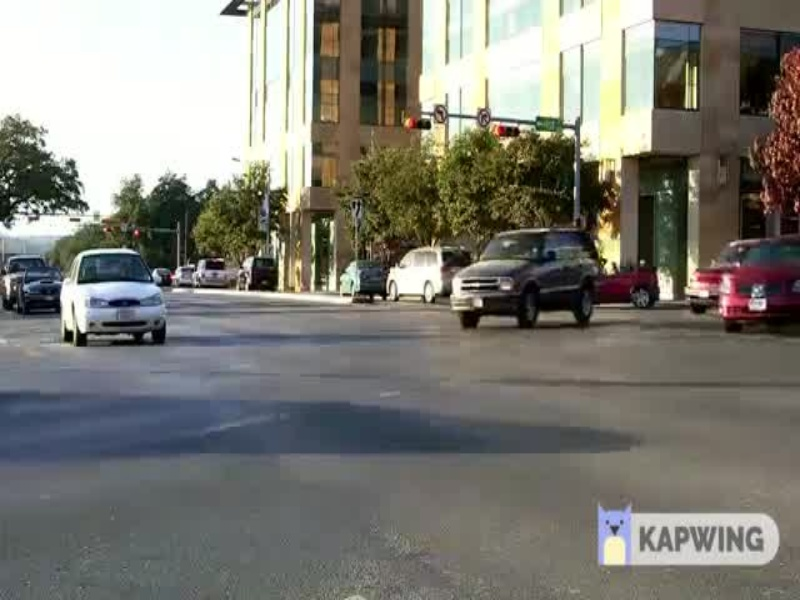car: (447, 224, 599, 335), (54, 245, 169, 351), (715, 224, 800, 339), (386, 237, 475, 302)
